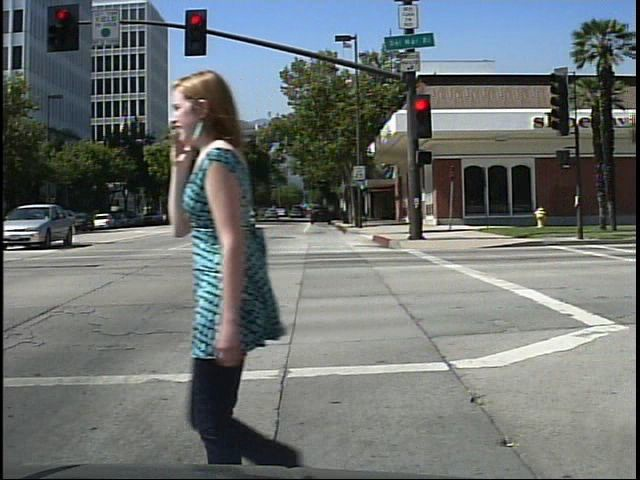person: (160, 67, 348, 470)
